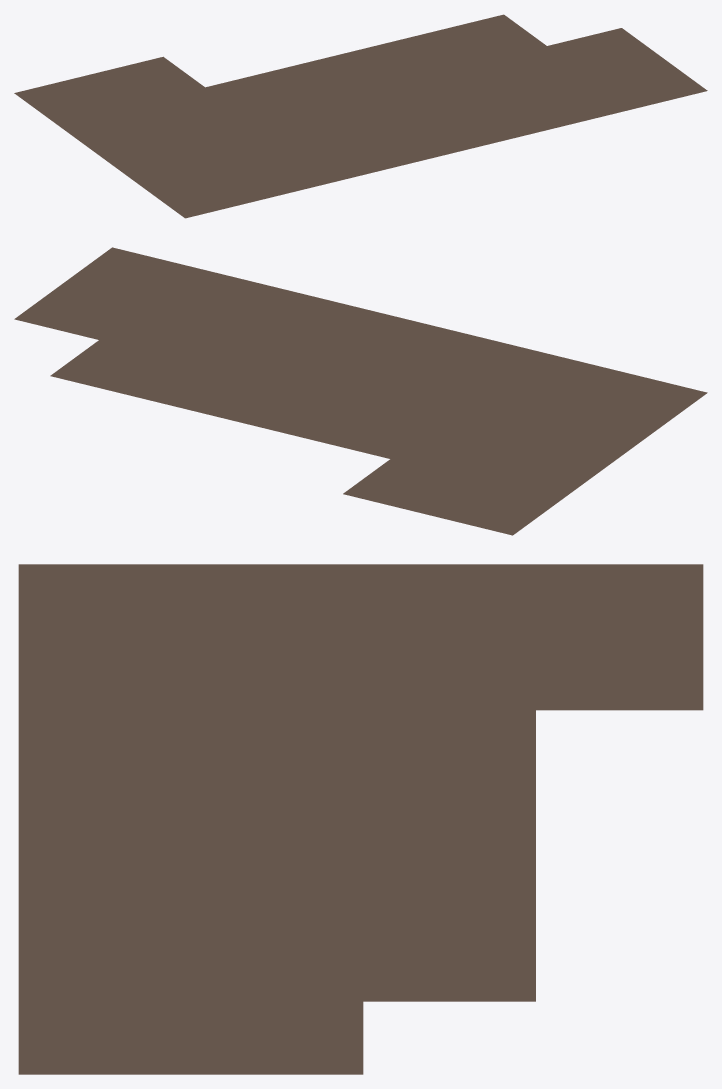
Rendered from N01_Piso_Cuarto_001_new.fbx.
3 views of the same model, one above another, from view 1: azimuth 30°, elevation 25°; view 2: azimuth 150°, elevation 25°; view 3: azimuth 270°, elevation 25° (orthographic). The views are drawn at different scales.
Parts seen in each view (by area): view 1: N01_Piso_Cuarto_001; view 2: N01_Piso_Cuarto_001; view 3: N01_Piso_Cuarto_001.
Part boxes in pixels (bbox=[...]): N01_Piso_Cuarto_001: bbox=[14, 14, 707, 218]; N01_Piso_Cuarto_001: bbox=[14, 247, 707, 535]; N01_Piso_Cuarto_001: bbox=[18, 564, 703, 1074].
Size of the model in its own units: 700 by 6.47e-05 by 397.
1 material, 1 textured.
